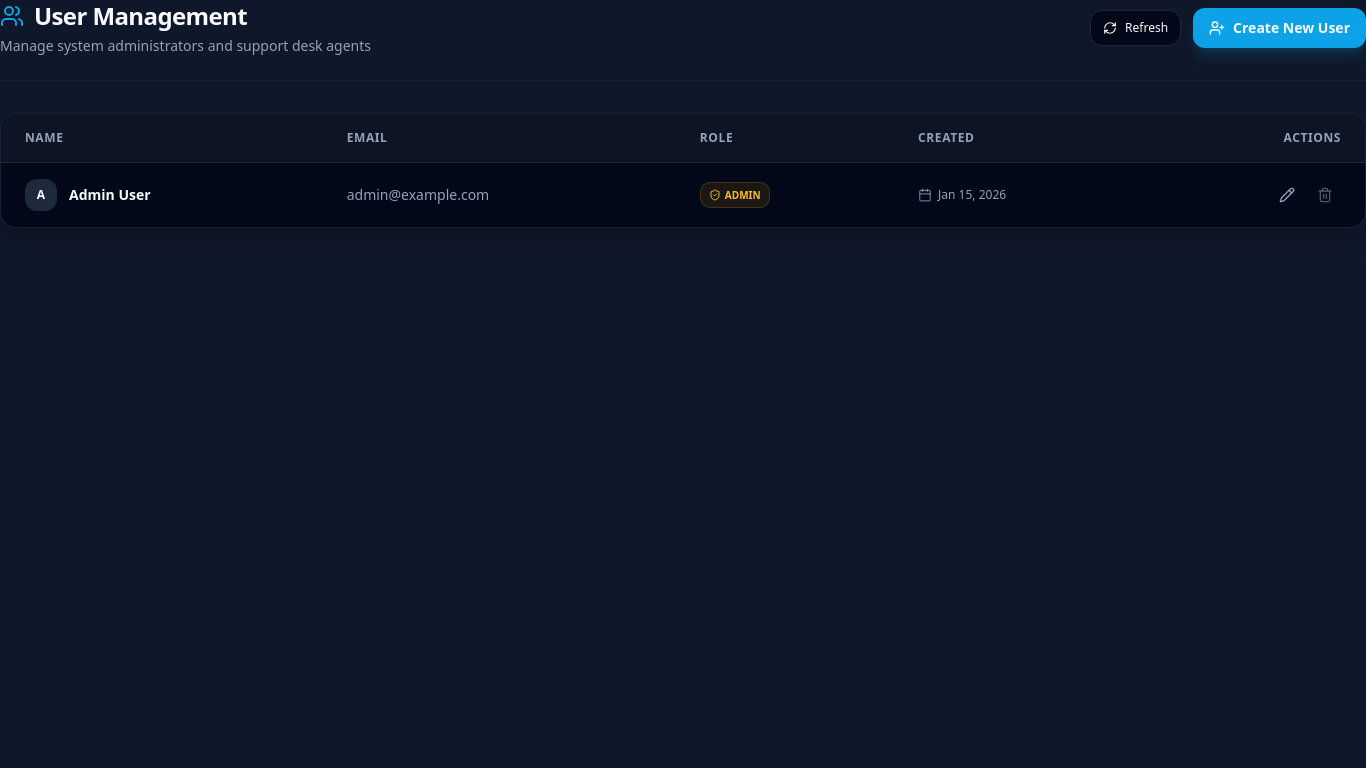
Test: Create User Form & Modal Component Tests › 1. Renders all fields and submit button
The width and height of the screenshot is (1366, 768).
Click the button "Create New User" at (1280, 28), box [1193, 8, 1365, 48]
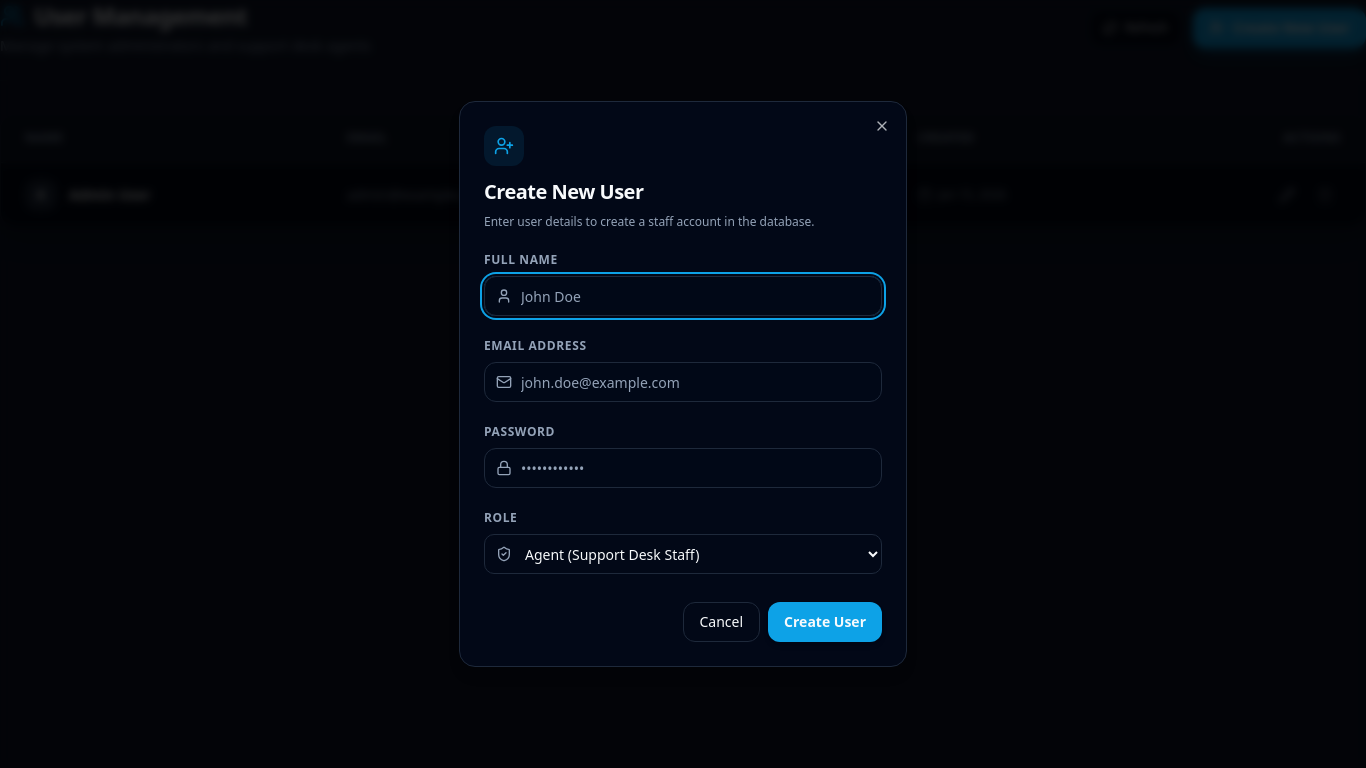
expect the dialog is shown: met, box [459, 101, 907, 667]
expect the field labelled "Full Name" is shown: met, box [484, 276, 882, 316]
expect the field labelled "Email Address" is shown: met, box [484, 362, 882, 402]
